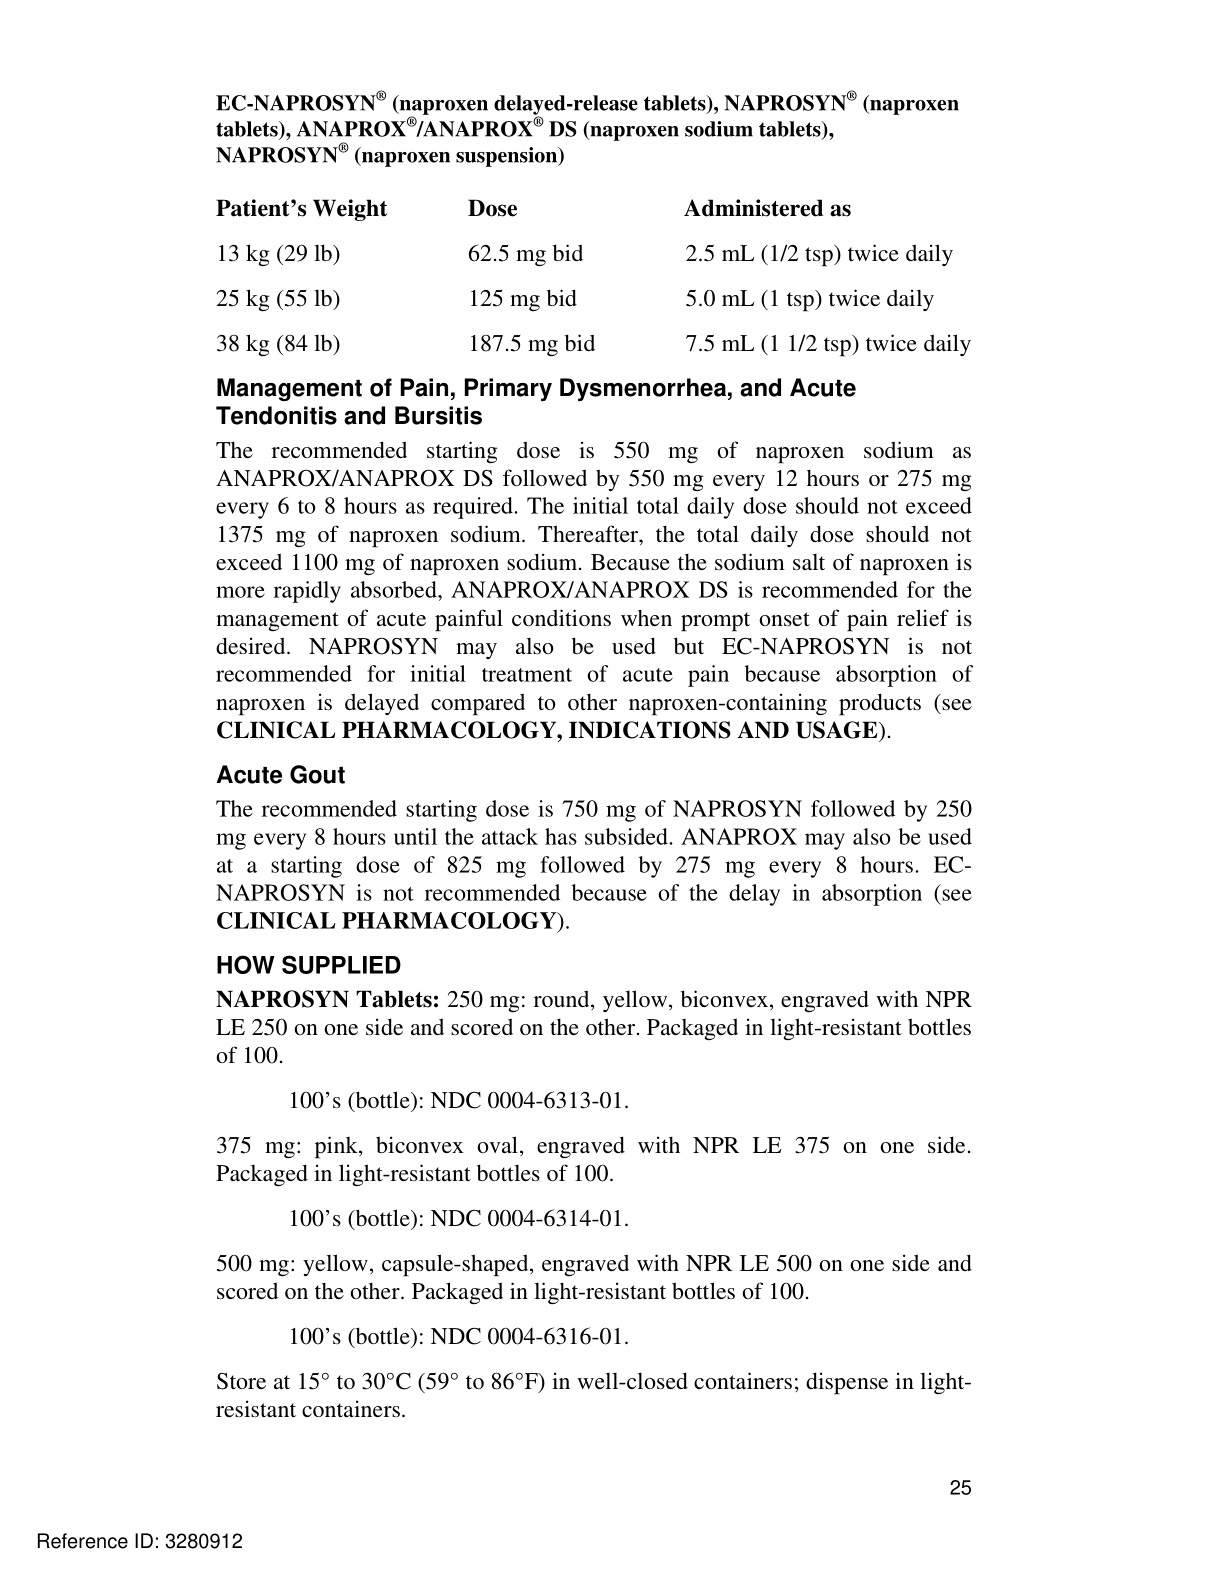nolines: (213, 195, 975, 360)
